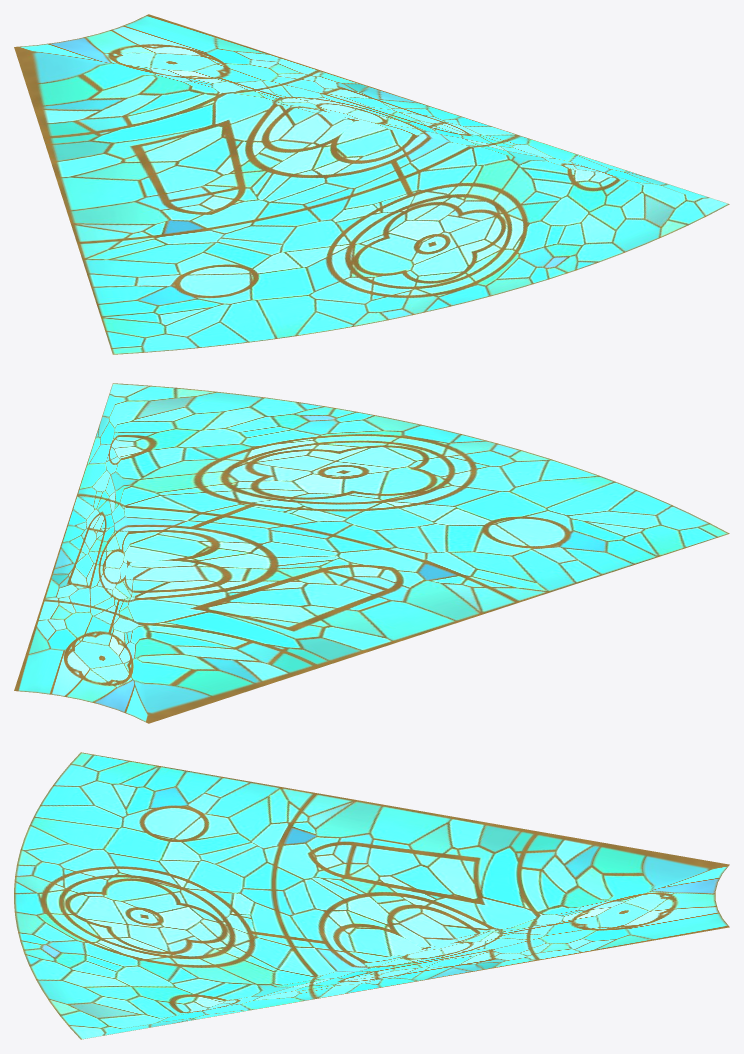
The model's file is lb_wedgelit_4.glb.
3 renders of one model, top to bottom at view 1: azimuth 30°, elevation 25°; view 2: azimuth 150°, elevation 25°; view 3: azimuth 270°, elevation 25°, orthographic. The views are drawn at different scales.
Visible parts, largest first — view 1: lb_wedgelit_4; view 2: lb_wedgelit_4; view 3: lb_wedgelit_4.
Part boxes in pixels (x1,y1,x2,y2): lb_wedgelit_4: [14, 14, 729, 354]; lb_wedgelit_4: [14, 383, 729, 723]; lb_wedgelit_4: [14, 752, 729, 1039].
Size of the model in its own units: 11.32 by 0 by 11.92.
Materials: 1 (1 with a texture image).
